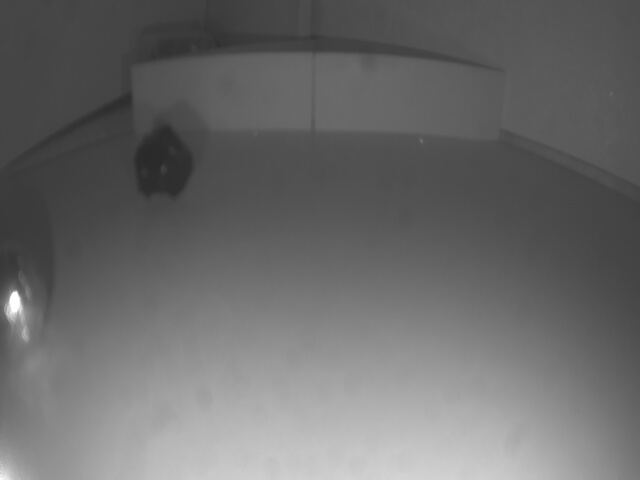Dead: (128, 127, 195, 199)
Live: (0, 246, 50, 360)
Point: (129, 49, 508, 140)
